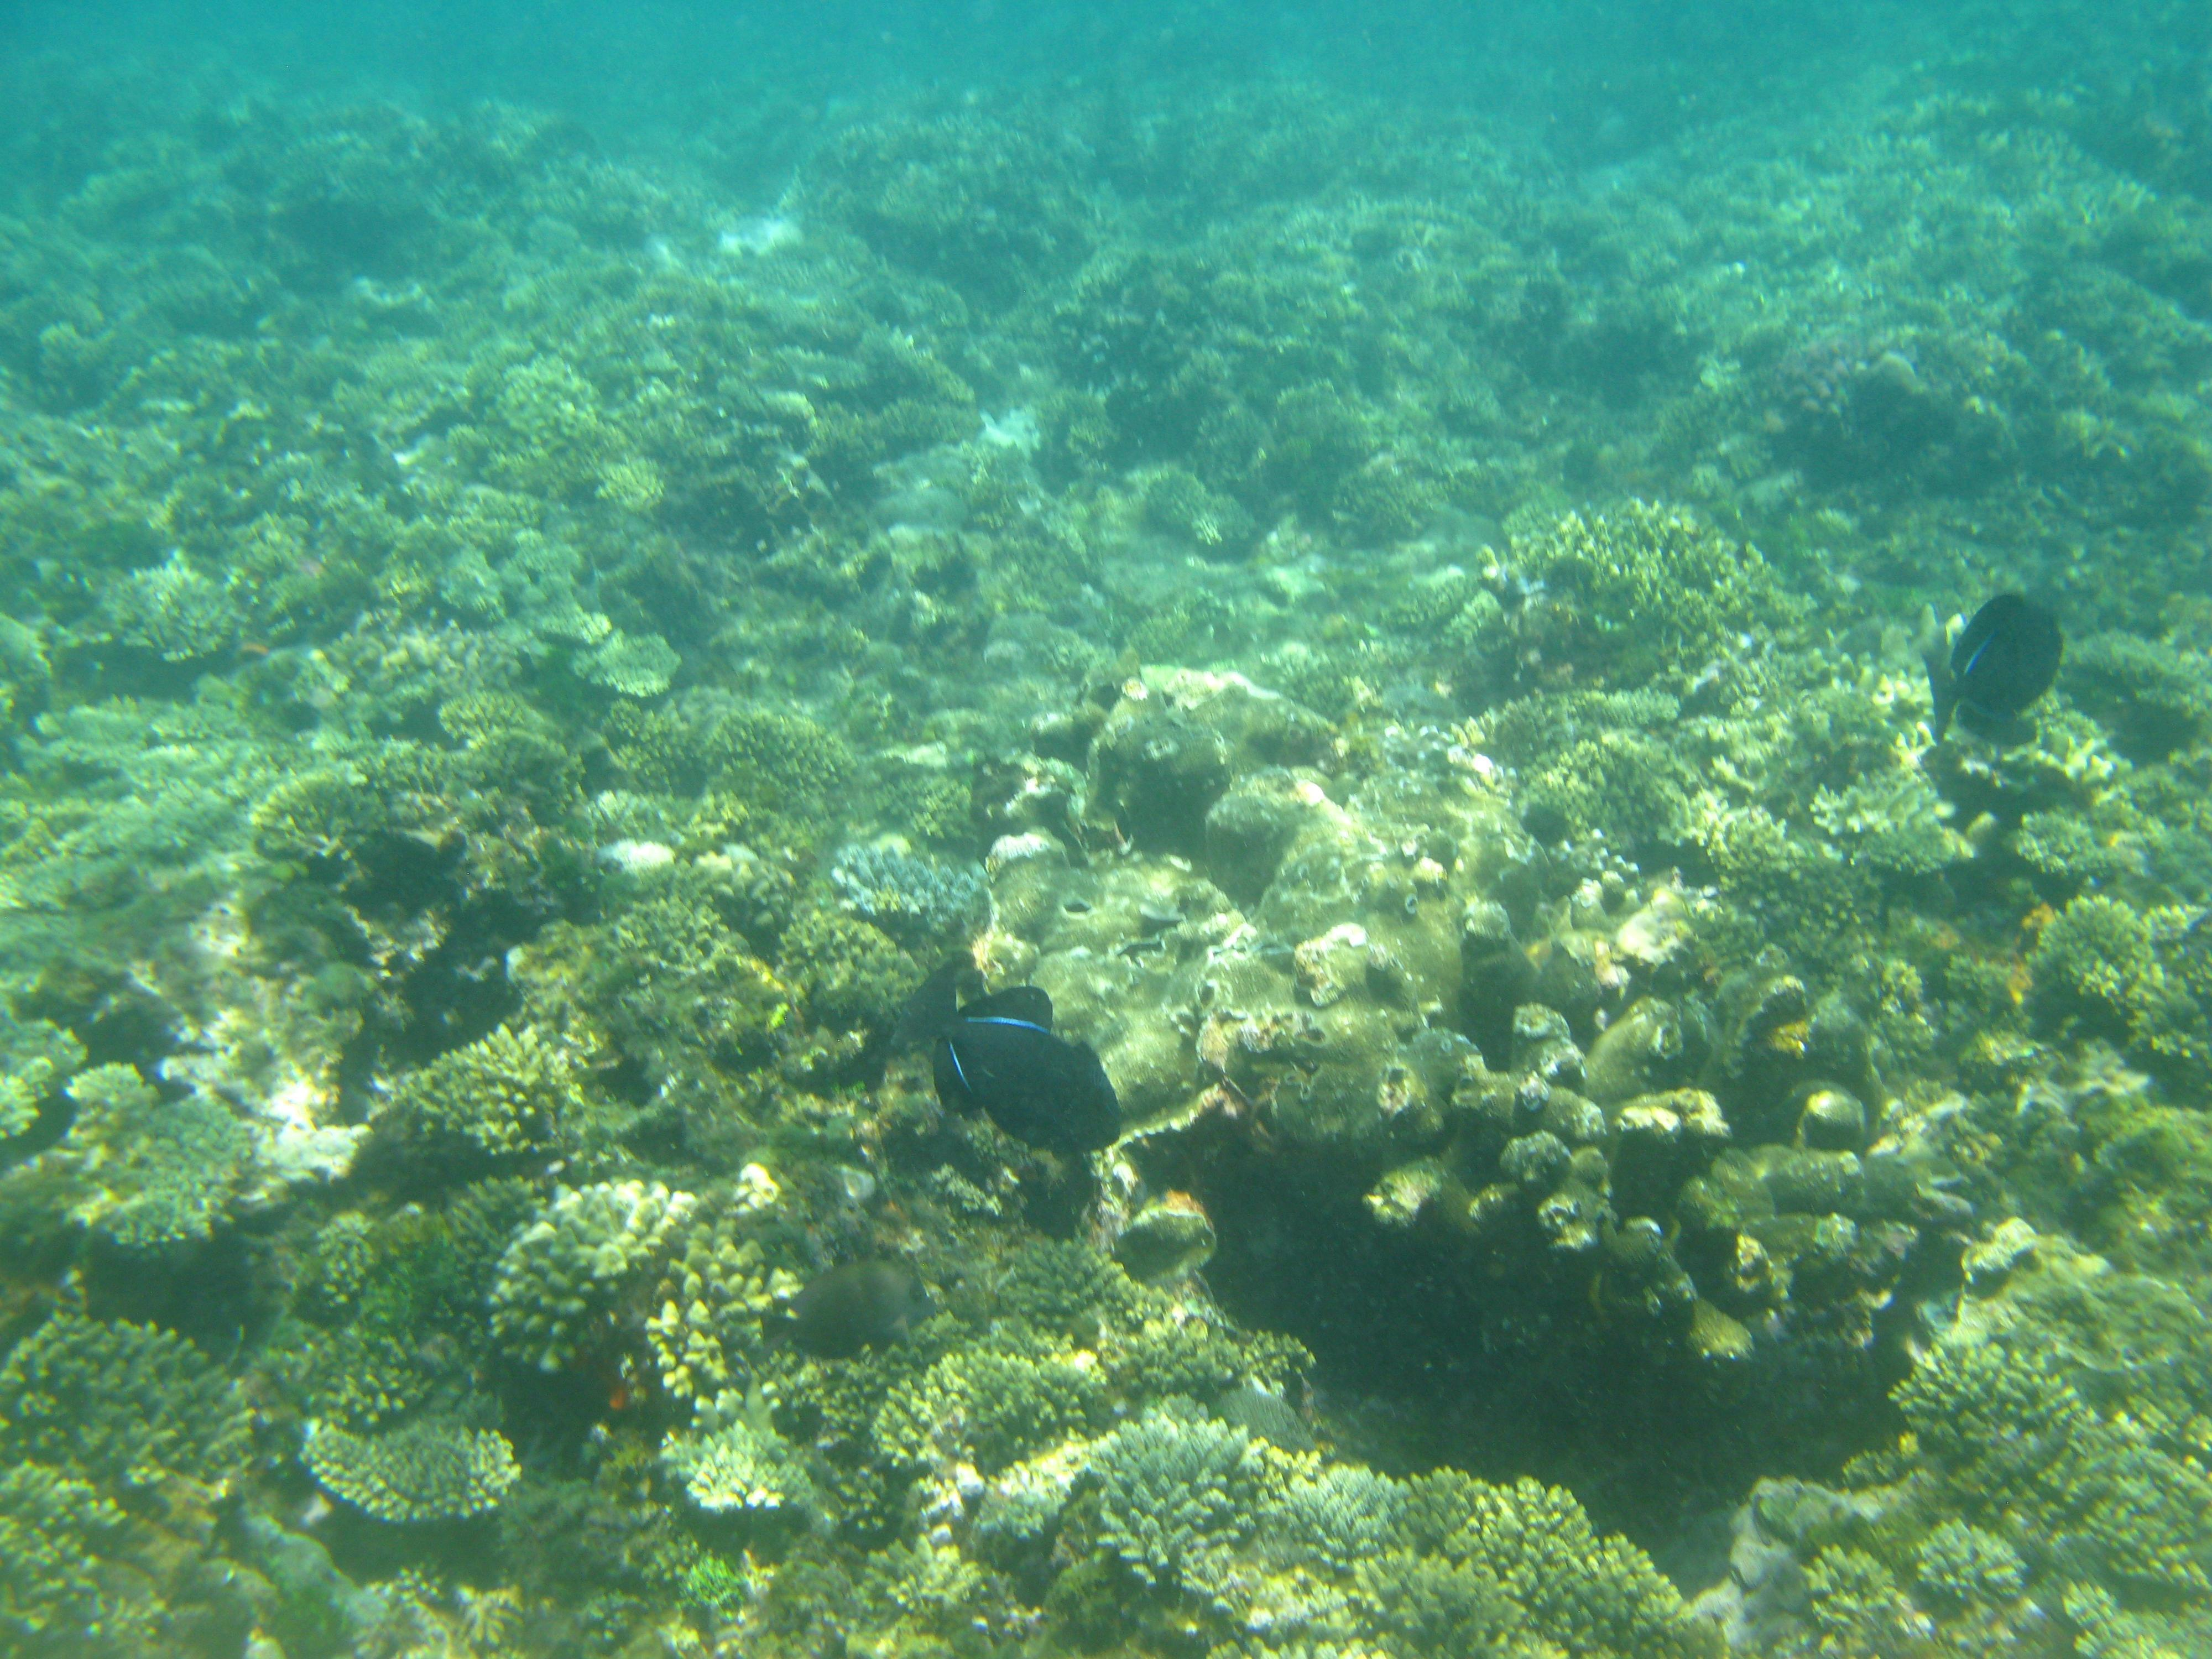Fish: (915, 965, 1145, 1175), (1927, 575, 2082, 738)
